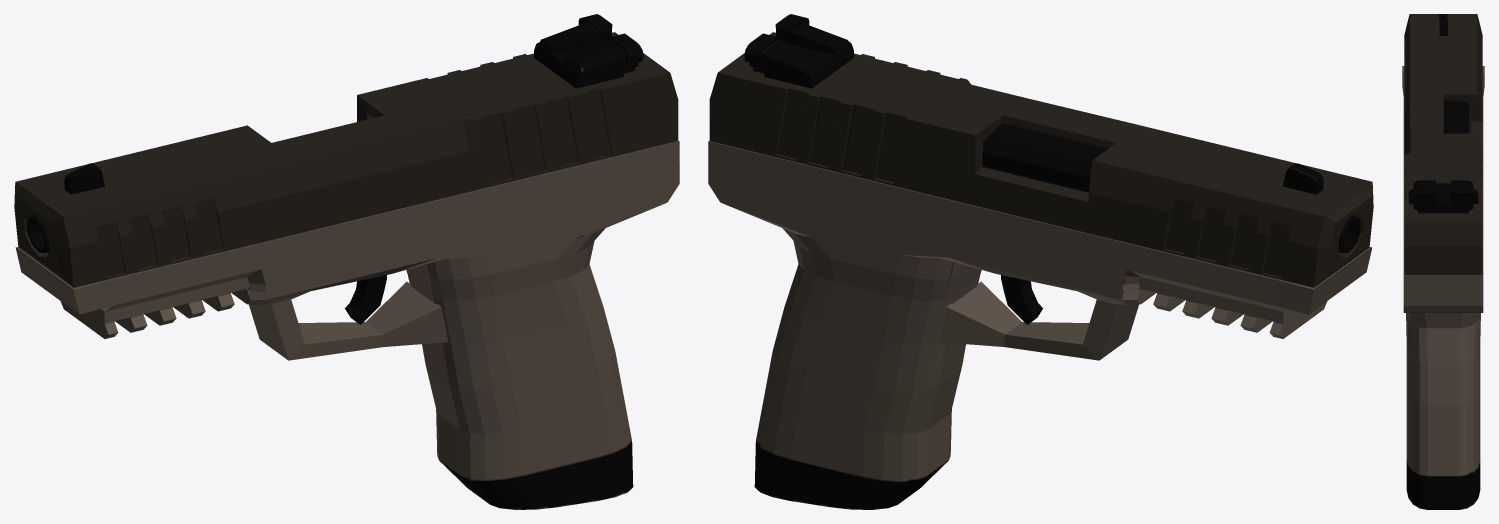
Rendered from pistol_Apply.fbx.
3 views of the same model, side by side, from view 1: azimuth 30°, elevation 25°; view 2: azimuth 150°, elevation 25°; view 3: azimuth 270°, elevation 25° (orthographic). The views are drawn at different scales.
Visible parts, largest first — view 1: trigger; view 2: trigger; view 3: trigger.
Boxes of the visible parts, box(x1,y1,x2,y2) form: trigger: box(14, 14, 679, 509); trigger: box(708, 14, 1373, 509); trigger: box(1402, 14, 1484, 509).
Size of the model in its own units: 0.2094 by 0.1446 by 0.0341.
